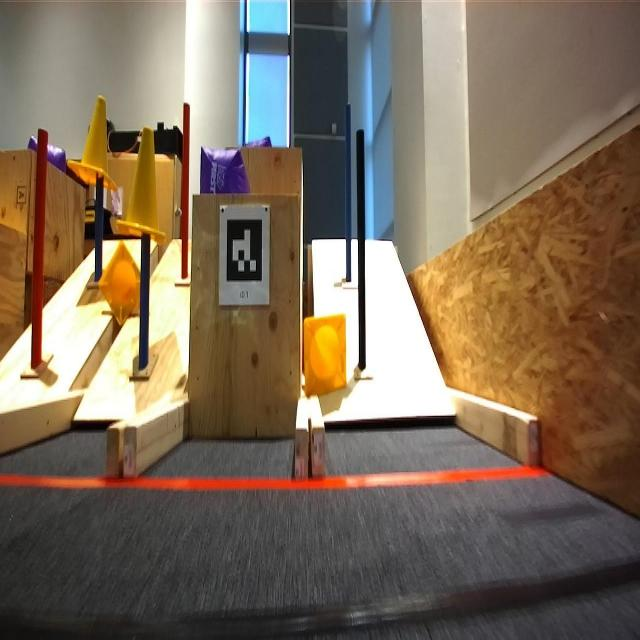frc_cone: (116, 132, 168, 249), (67, 96, 117, 191), (299, 314, 347, 396), (99, 246, 145, 329)
frc_cube: (200, 143, 250, 194), (26, 134, 64, 169)
